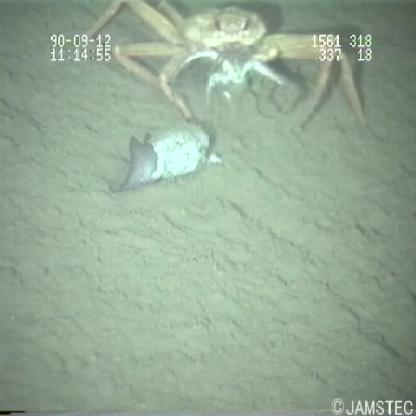Bio: (78, 1, 368, 193)
